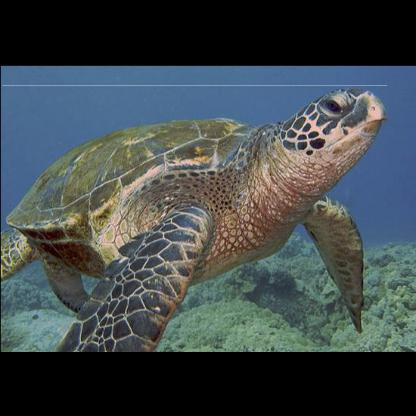turtle: (1, 84, 387, 350)
